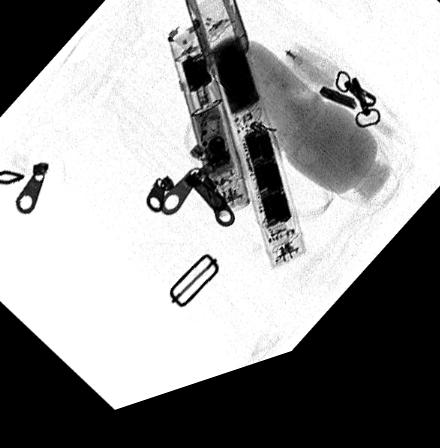Baton: (182, 0, 308, 289), (165, 30, 250, 233)
